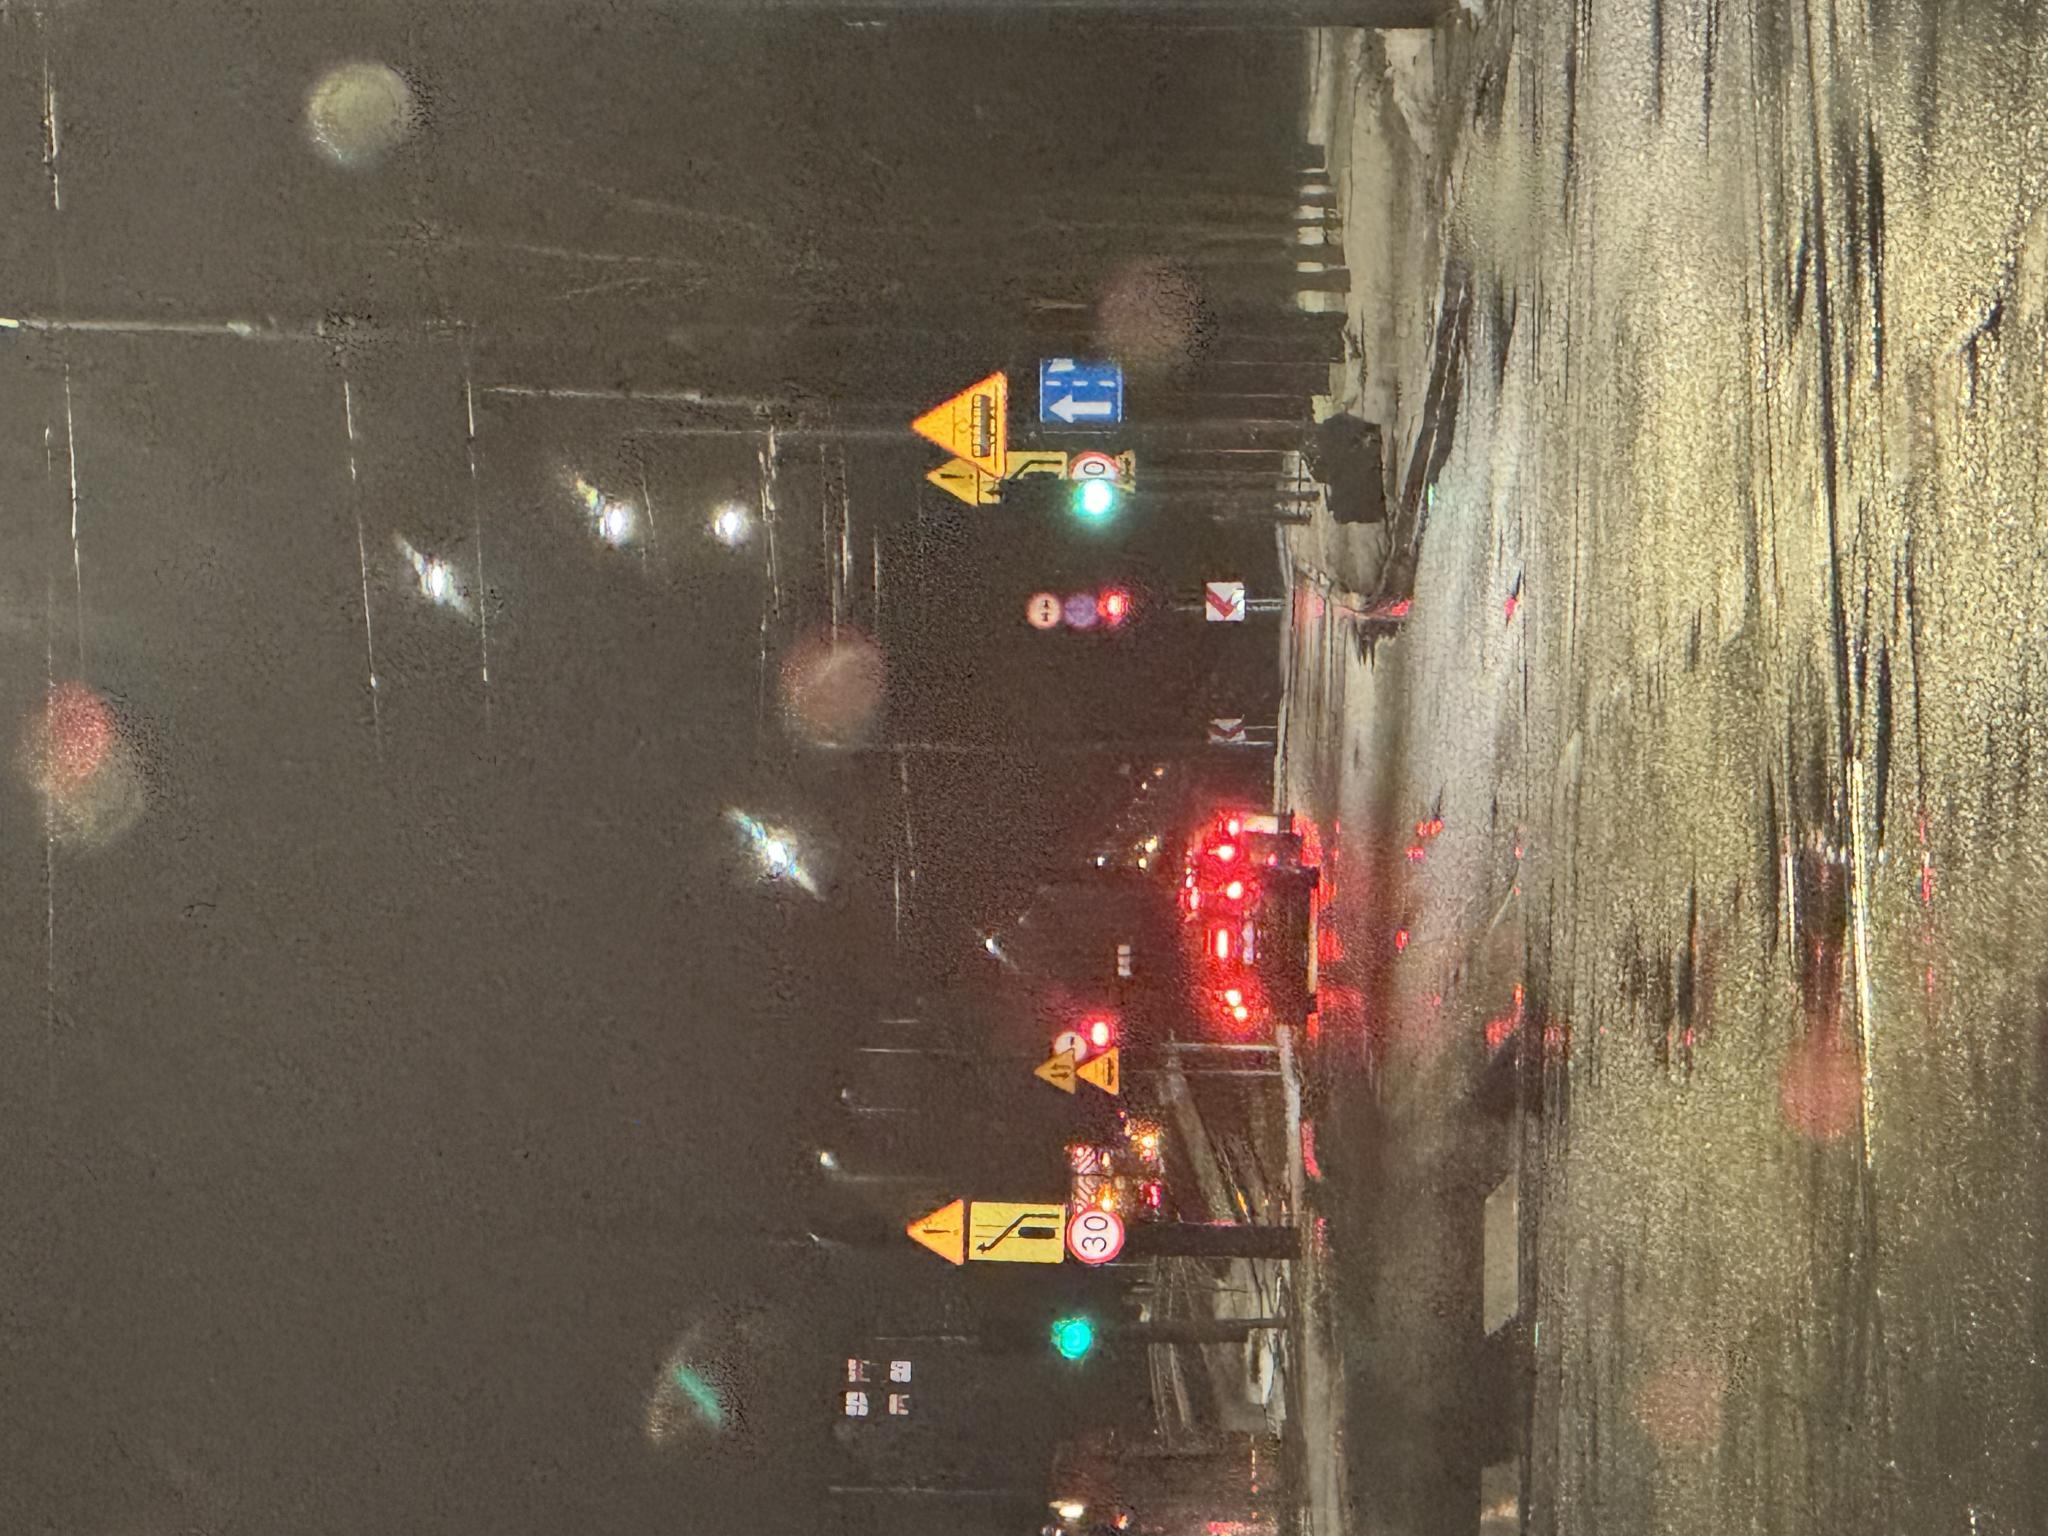other: (273, 970, 332, 1066), (1114, 1039, 1180, 1121)
prohibitory: (271, 1065, 332, 1126), (1055, 1070, 1084, 1120), (910, 1062, 945, 1099), (908, 1028, 943, 1063), (484, 1050, 505, 1089)
warning: (1056, 910, 1164, 1008), (269, 905, 337, 965), (1026, 925, 1080, 978), (439, 1076, 490, 1120), (442, 1034, 487, 1076)
